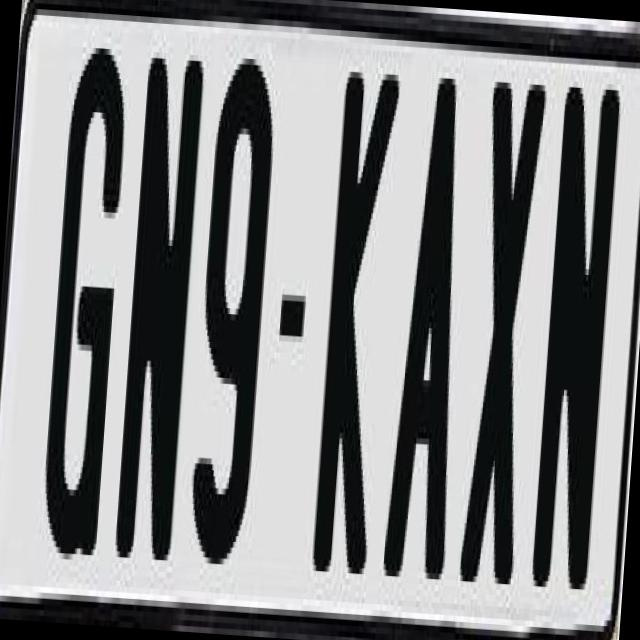9: (185, 45, 288, 578)
A: (380, 58, 486, 580)
G: (38, 46, 138, 562)
K: (308, 65, 402, 574)
N: (530, 80, 626, 608), (108, 57, 202, 572)
X: (458, 75, 549, 590)
